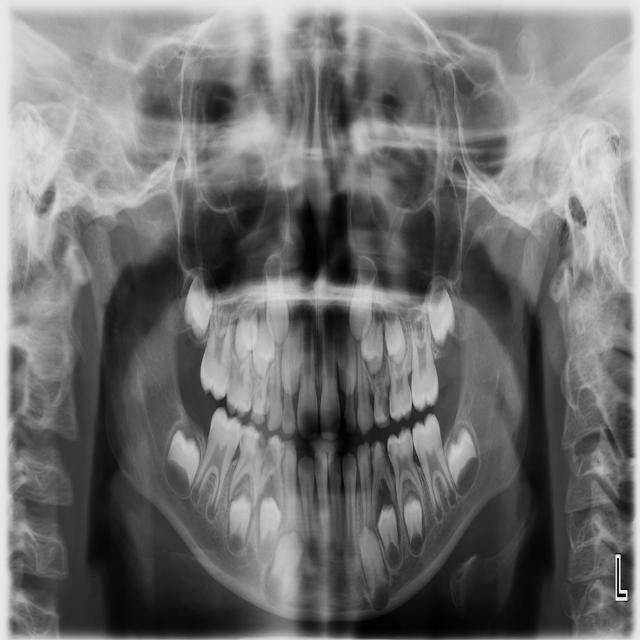mandibula: (84, 223, 547, 623)
